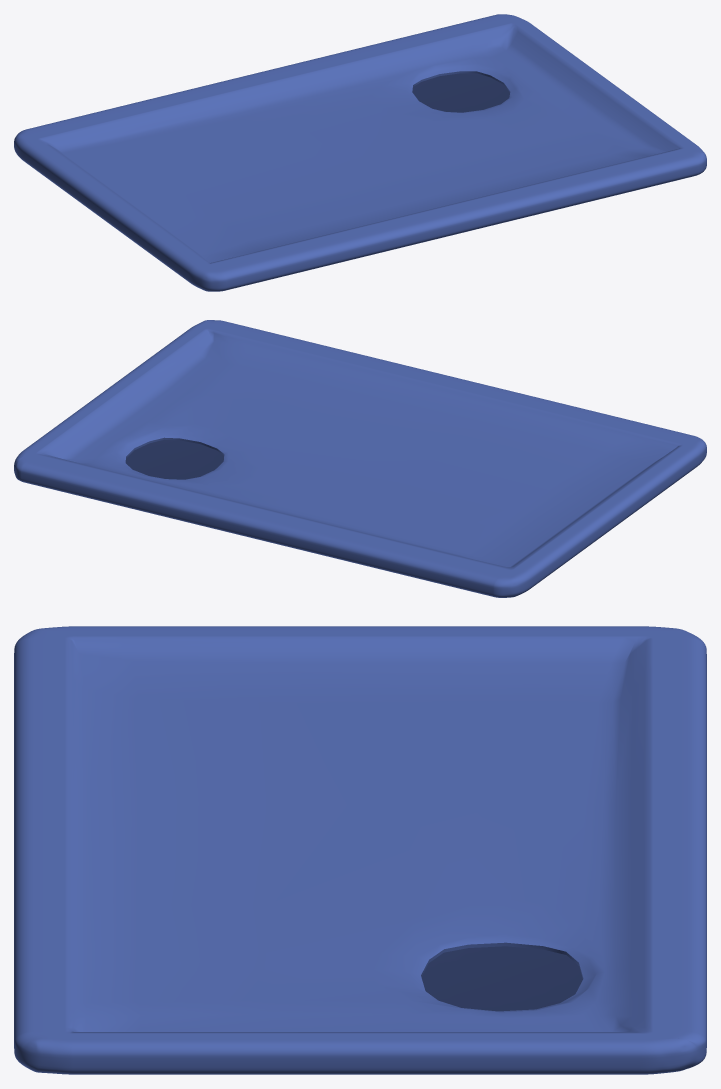
The model's file is food_tray.fbx.
3 renders of one model, top to bottom at view 1: azimuth 30°, elevation 25°; view 2: azimuth 150°, elevation 25°; view 3: azimuth 270°, elevation 25°, orthographic. The views are drawn at different scales.
Visible parts, largest first — view 1: pCube1; view 2: pCube1; view 3: pCube1.
Boxes of the visible parts, x1,y1,x2,y2 form: pCube1: [14, 14, 706, 291]; pCube1: [14, 320, 706, 597]; pCube1: [14, 626, 706, 1074].
Bounding box in the file's own units: 1.45 × 0.0614 × 1.
